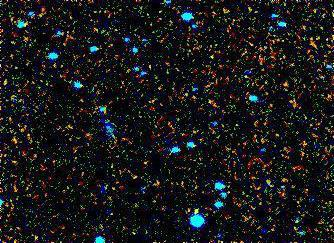star: (180, 197, 210, 227)
